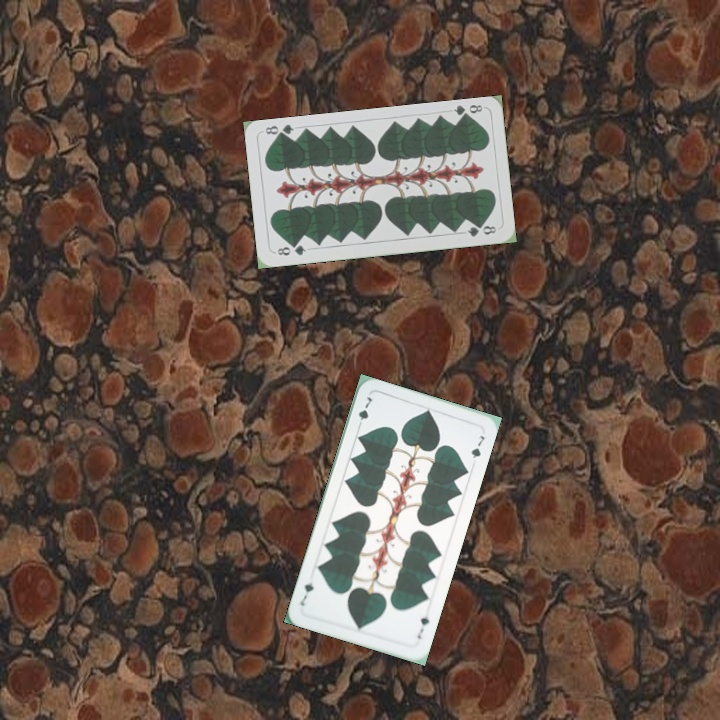G7: (354, 393, 375, 431), (413, 612, 432, 642)
G8: (450, 100, 485, 122), (273, 240, 309, 258)
